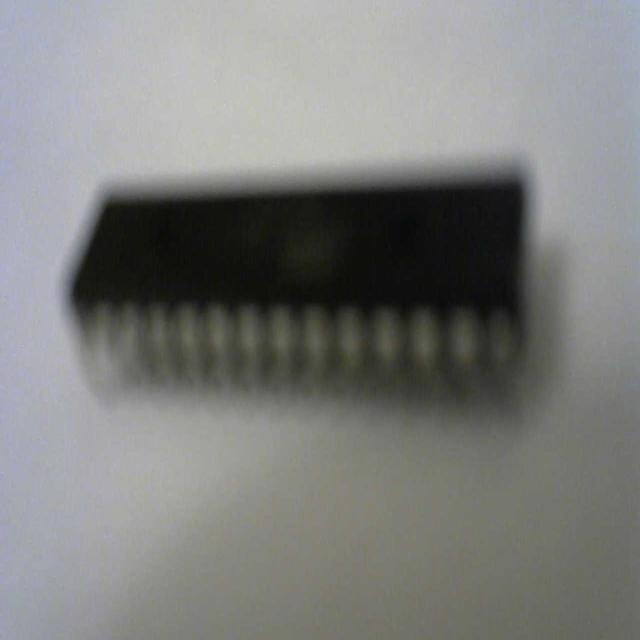atmega: (66, 163, 538, 415)
